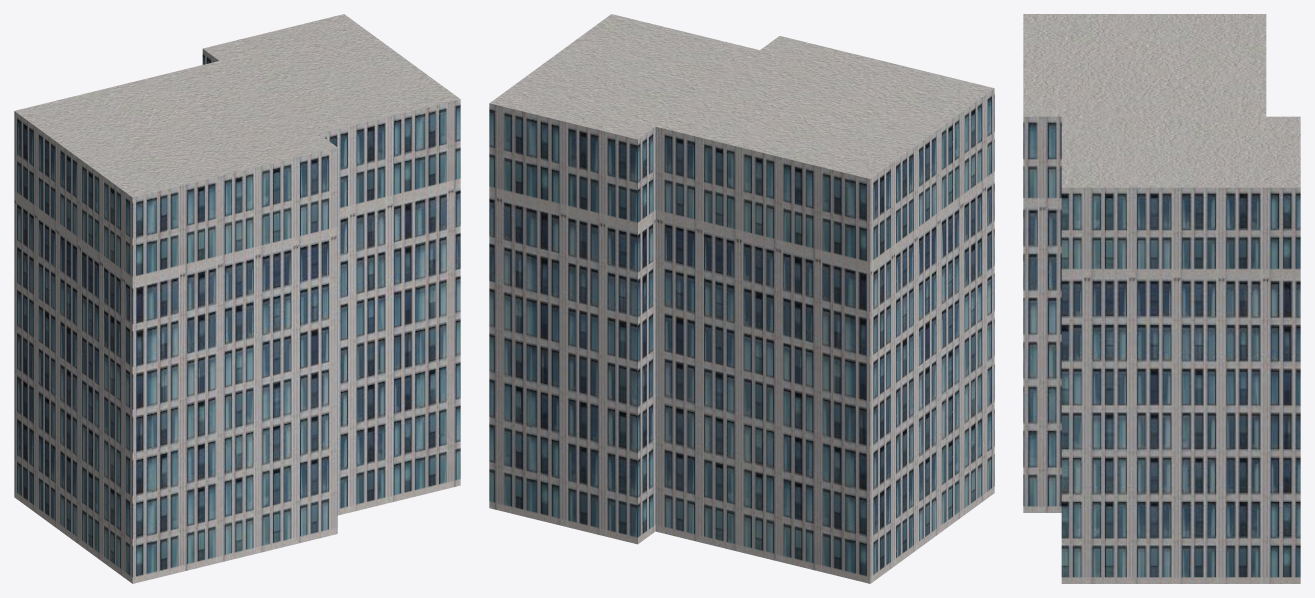
The model's file is building_046.fbx.
3 views of the same model, side by side, from view 1: azimuth 30°, elevation 25°; view 2: azimuth 150°, elevation 25°; view 3: azimuth 270°, elevation 25° (orthographic). The views are drawn at different scales.
Parts seen in each view (by area): view 1: building_046; view 2: building_046; view 3: building_046.
Boxes of the visible parts, <box> form: building_046: <box>14,14,460,583</box>; building_046: <box>489,14,994,583</box>; building_046: <box>1023,14,1300,583</box>.
Bounding box in the file's own units: 1691 × 1800 × 1142.
